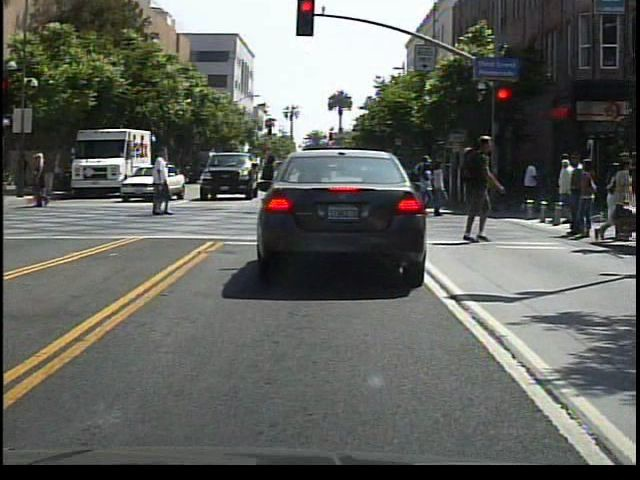person: (448, 132, 501, 247), (141, 149, 178, 225), (243, 155, 277, 214), (552, 154, 578, 226), (28, 150, 54, 214), (521, 155, 540, 221)
